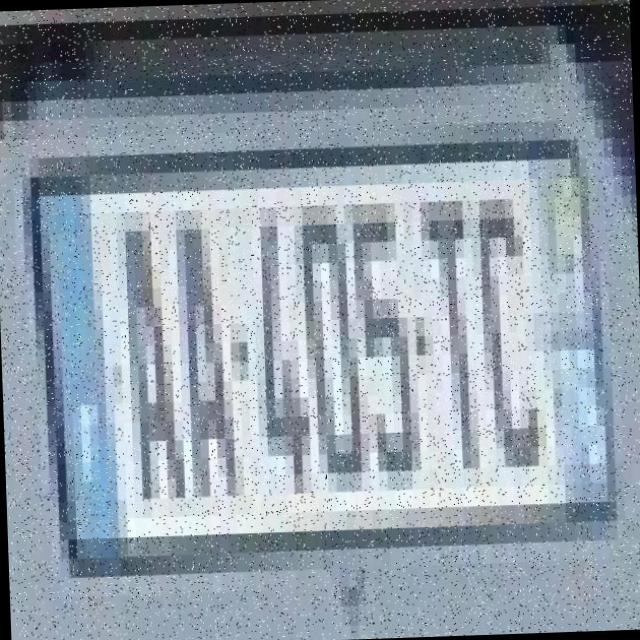LicensePlate: (7, 57, 640, 639)
